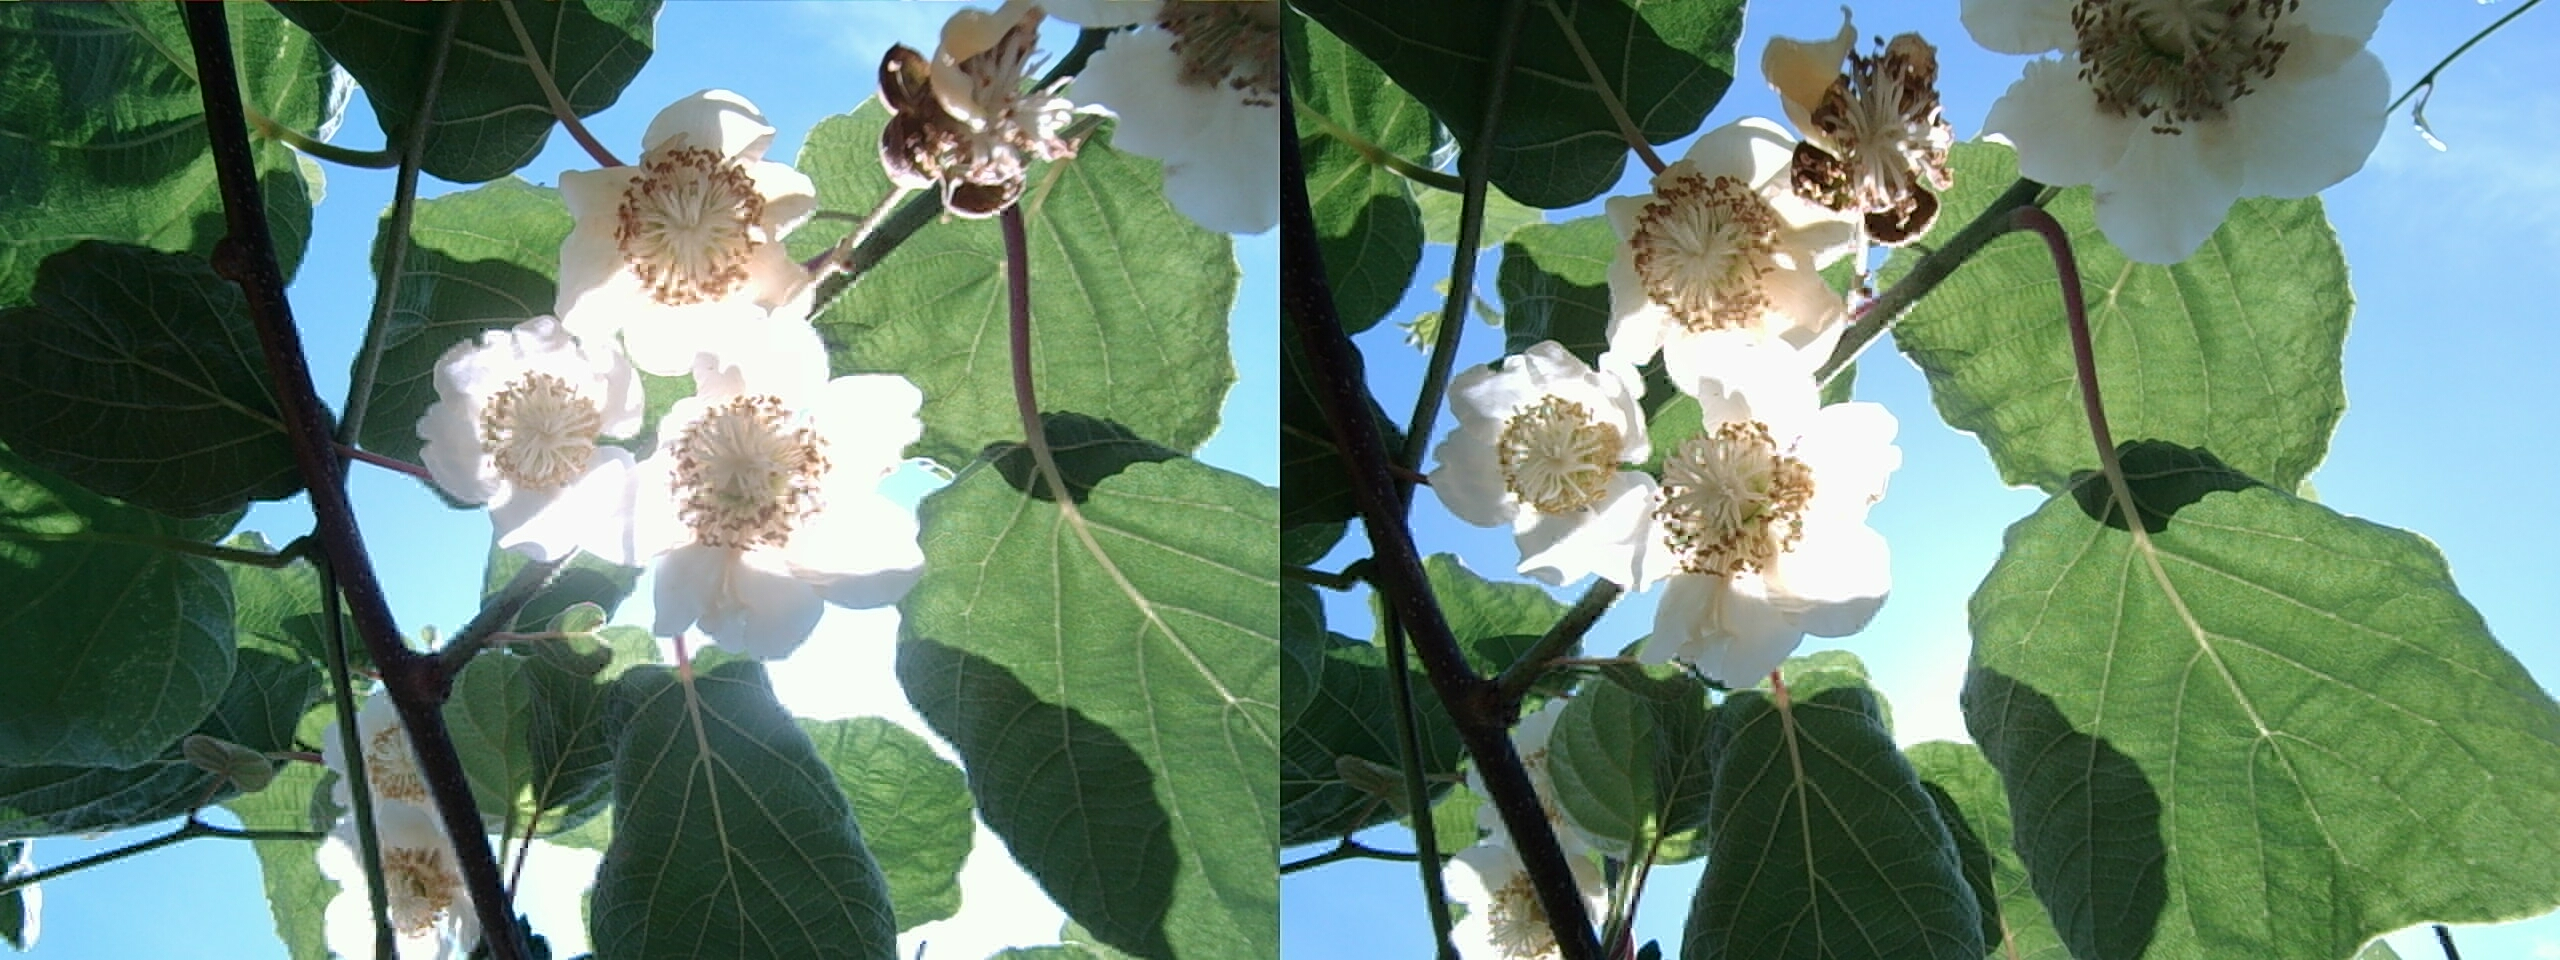flower: (1984, 0, 2374, 237), (627, 348, 909, 611), (1598, 384, 1881, 627), (553, 82, 816, 340), (1590, 140, 1851, 366), (1750, 5, 1959, 237), (410, 312, 638, 518), (1433, 333, 1652, 540), (873, 15, 1084, 201)
